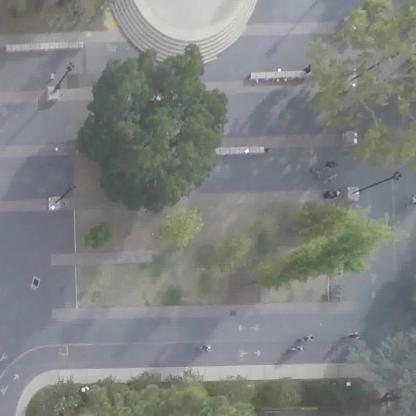Bicyclist: (320, 150, 341, 172), (341, 323, 365, 342), (296, 331, 327, 345), (191, 341, 214, 357), (282, 342, 310, 354), (302, 159, 319, 177)
Pedestrian: (45, 68, 71, 94), (298, 61, 312, 77)
